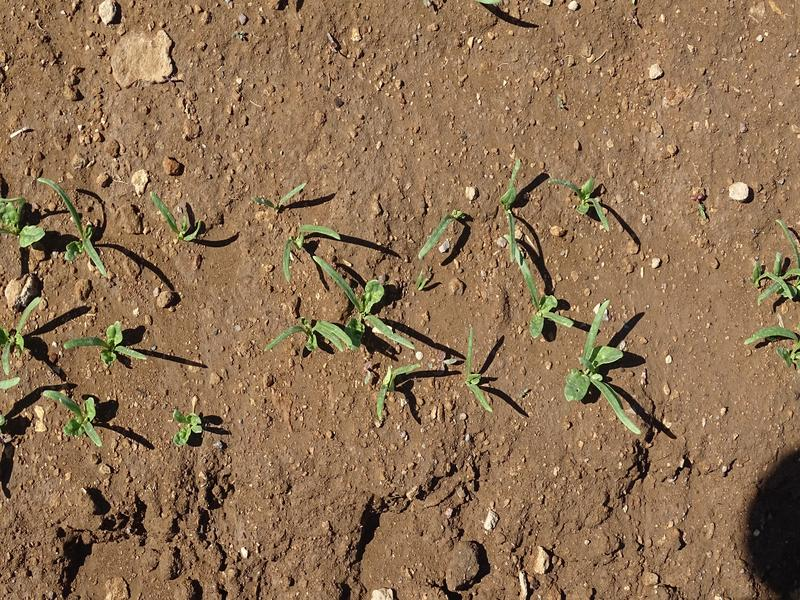Espinaca: (274, 175, 496, 411), (505, 174, 649, 434), (1, 184, 135, 451), (745, 225, 797, 362), (155, 191, 214, 246), (171, 403, 214, 452)
